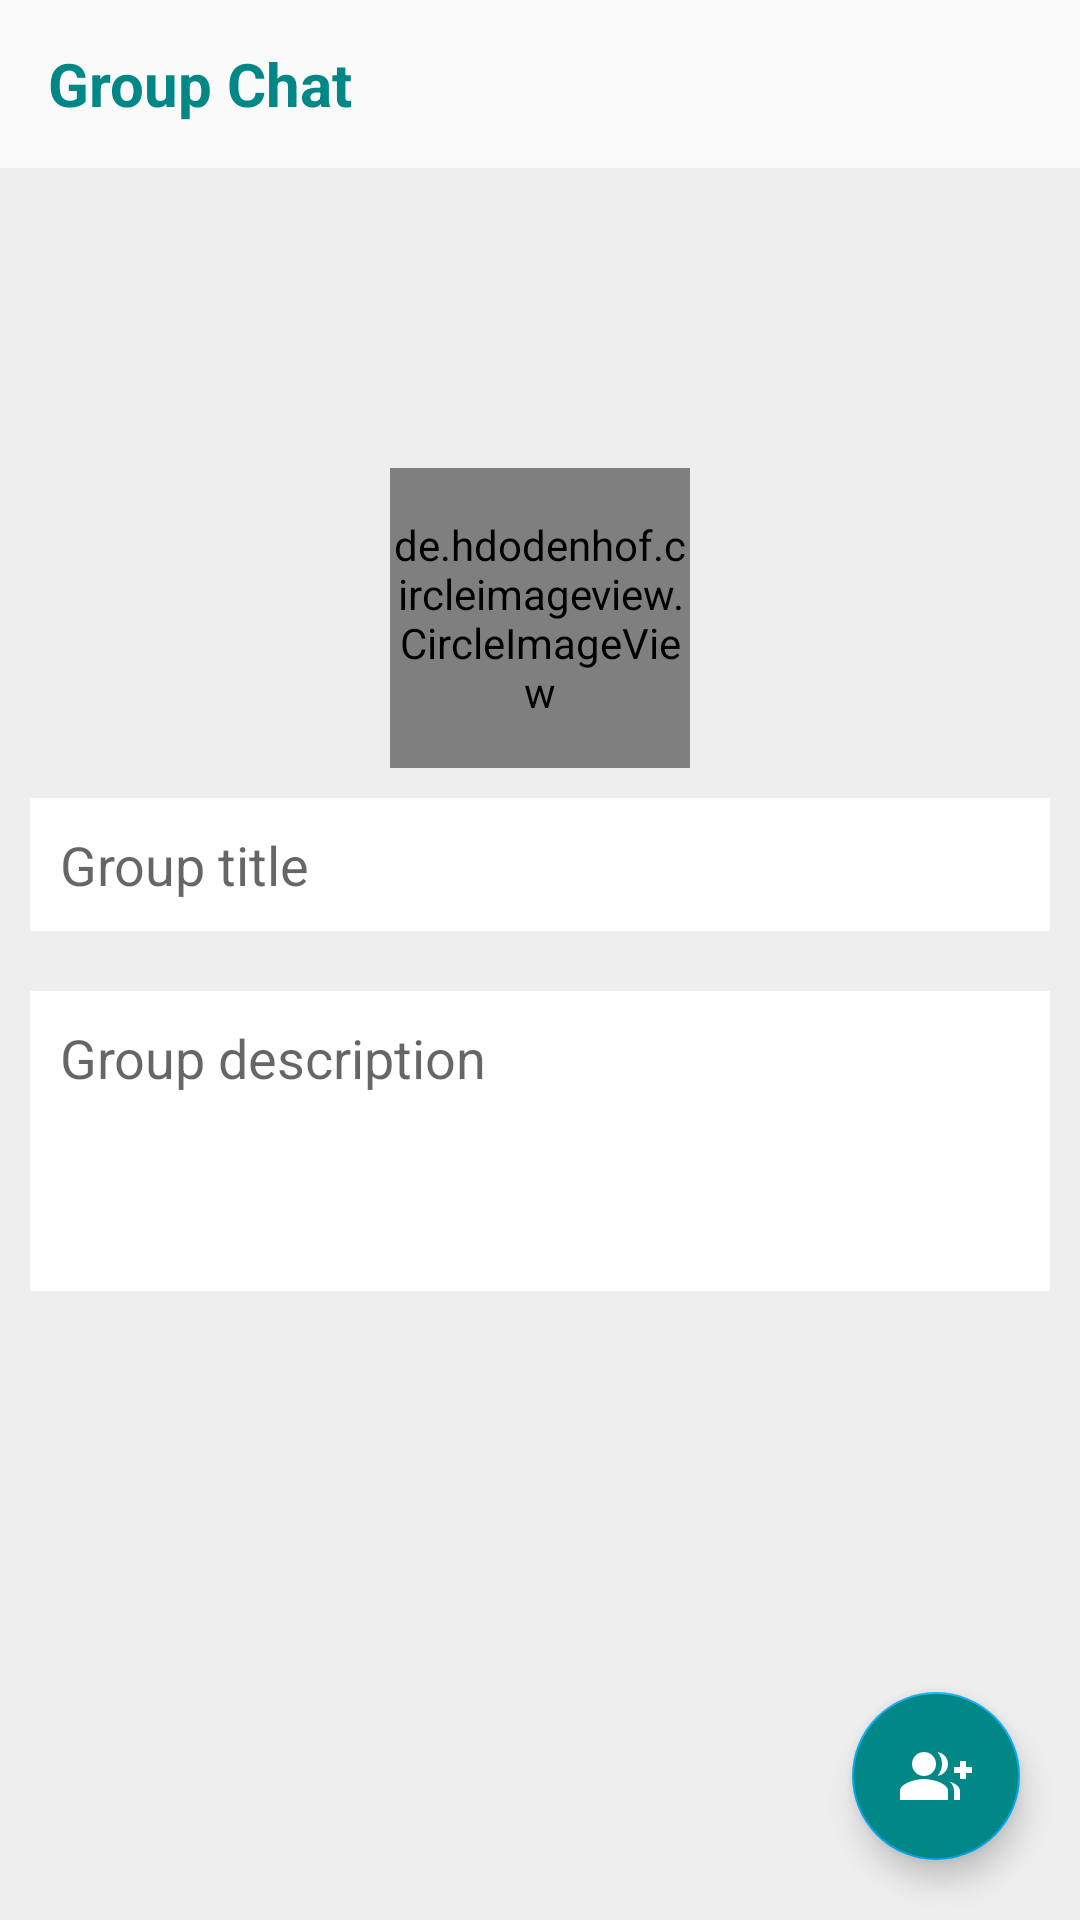

Point at icon controls on the screen. Image size 1080px x 1920px, points as (x,y).
group add: (936,1776)
